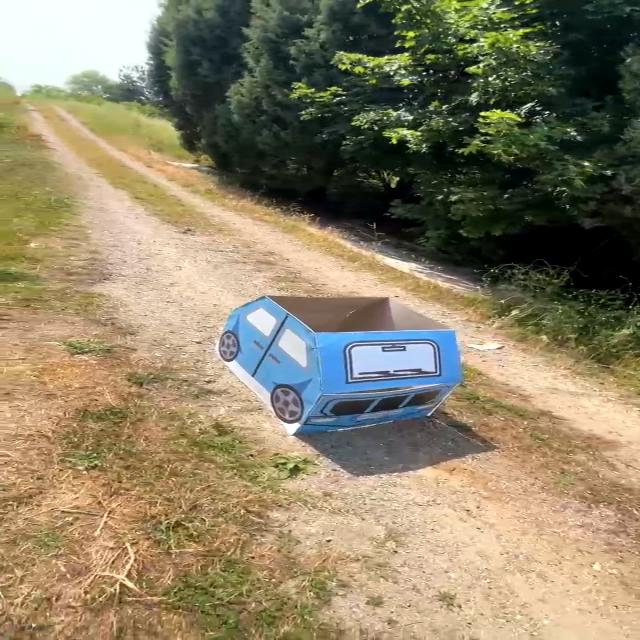blue_car: (197, 273, 478, 456)
